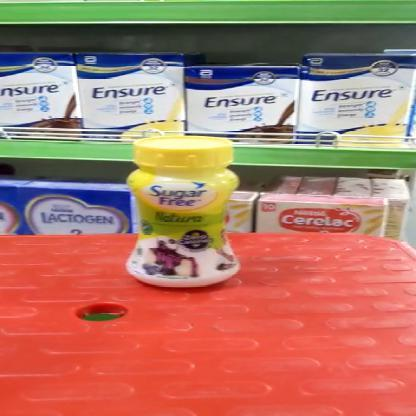SUGAR FREE NATURA_ POWDER_CONC_100G: (123, 135, 240, 291)
